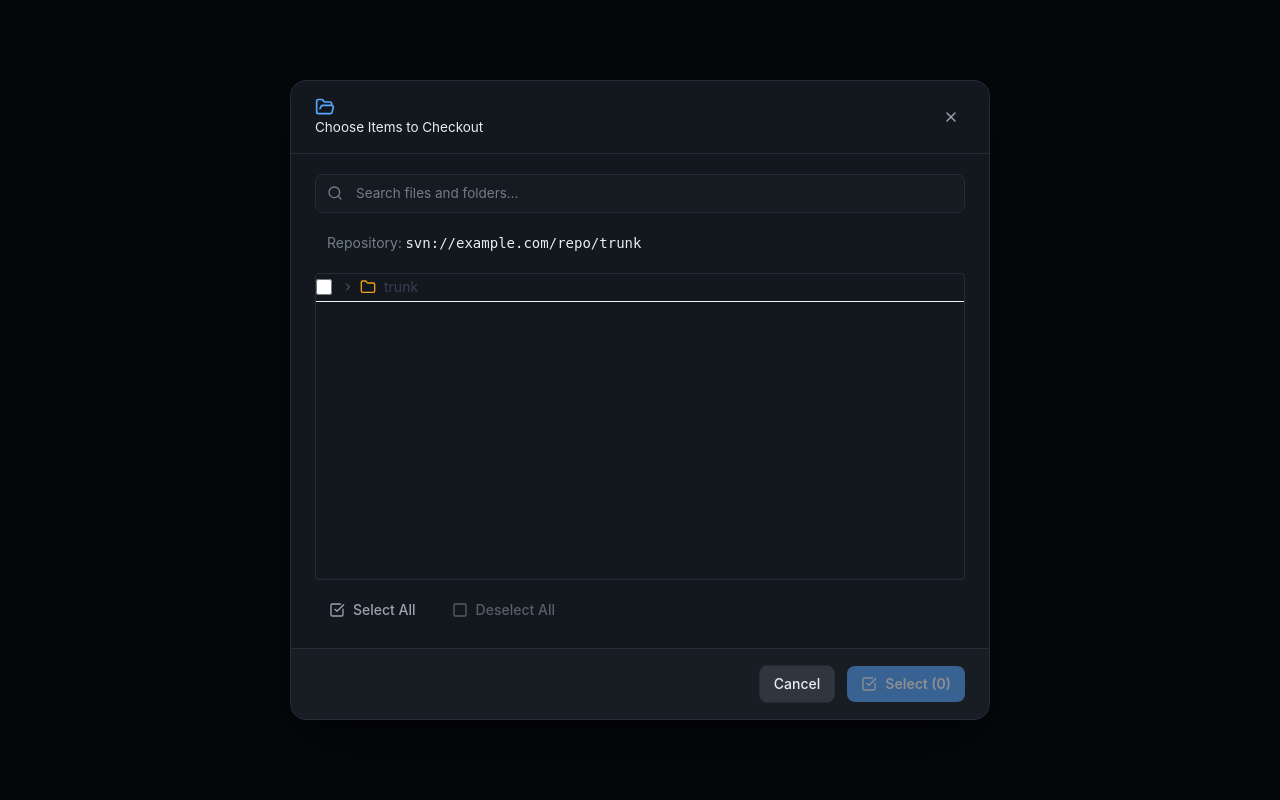
ChooseItemsDialog › selection › Select All button selects all items
This screenshot has width=1280, height=800.
Click the button "Select All" at x=372, y=610, box 315,592 -> 430,628
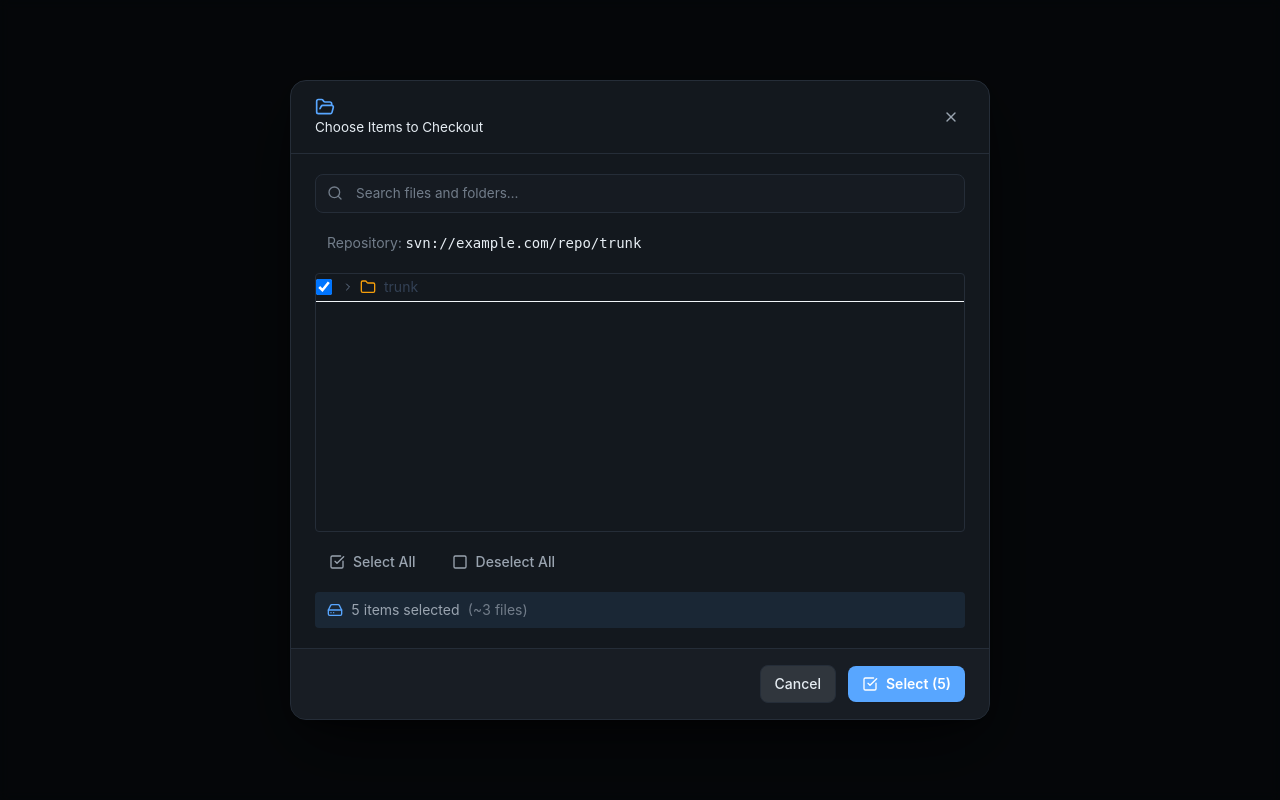
Expected: the text "5 items selected(~3 files)" is shown, 351,600 -> 528,620
